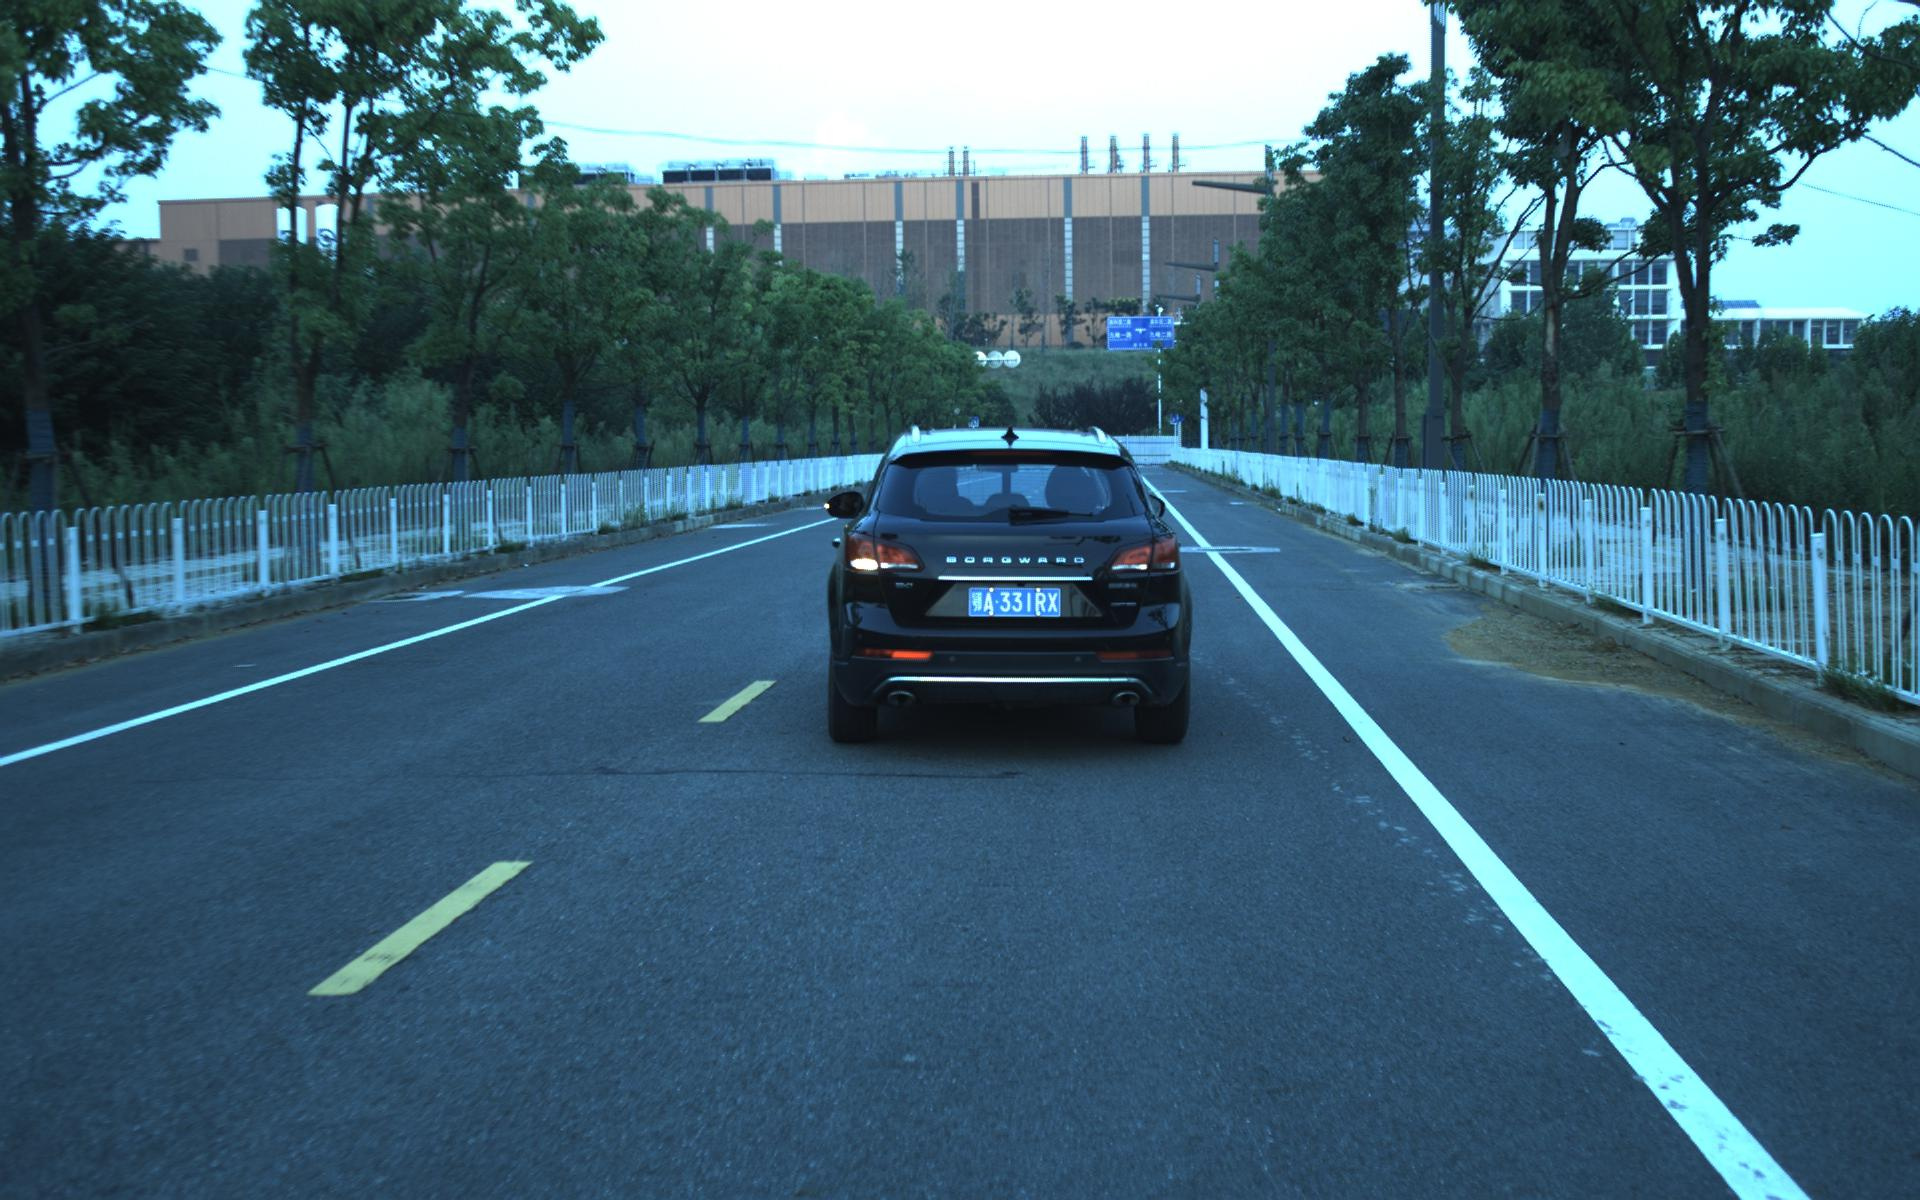Car: (820, 418, 1196, 753)
